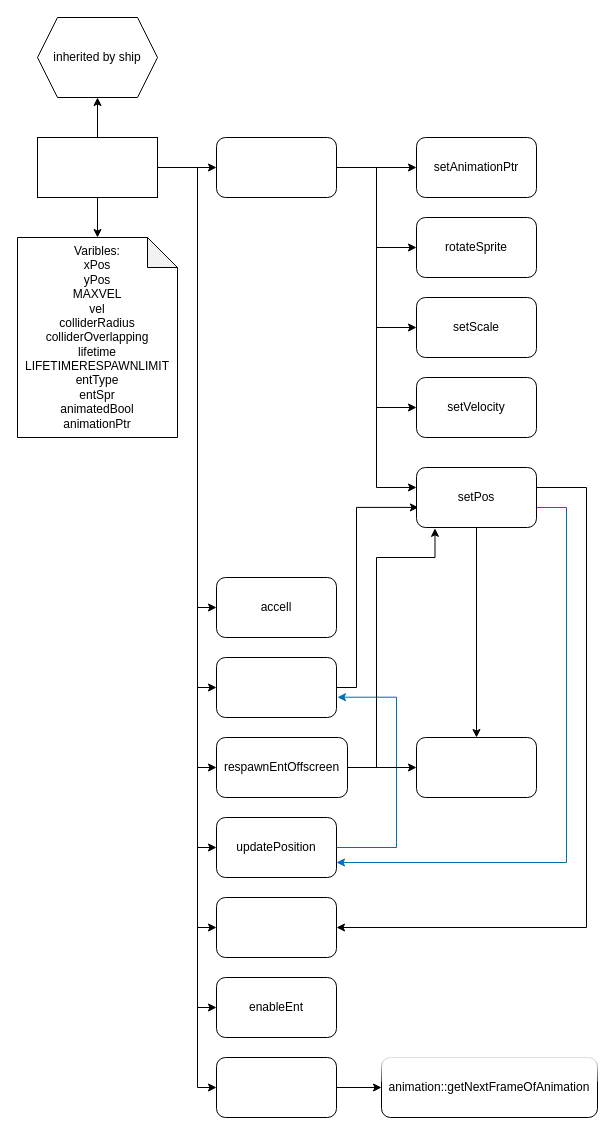
The diagram is 615 pixels wide and 1135 high, and some of its shapes have lost their labels. Here are the shapes that lost their labels. From the top down, the centre of each, then its label:
point (97, 167): entity
point (276, 167): init
point (276, 687): mvEnt
point (476, 767): checkCollision
point (276, 927): disableEnt
point (276, 1087): render
